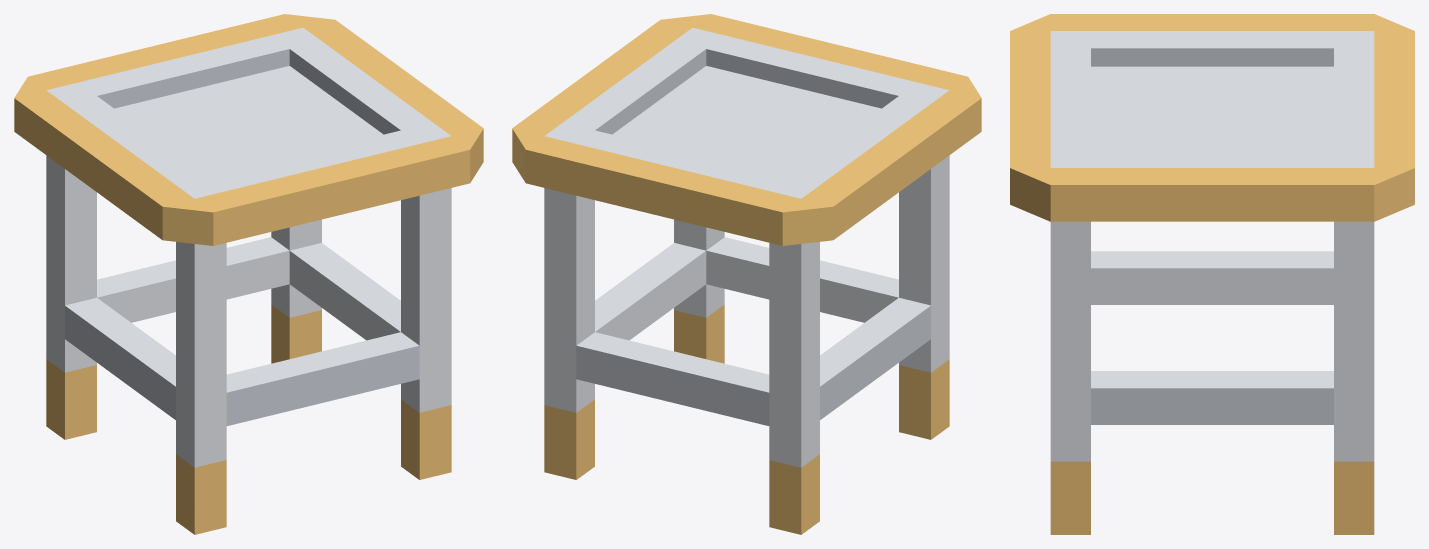
The model's file is space_platform_high.glb.
3 renders of one model, left to right at view 1: azimuth 30°, elevation 25°; view 2: azimuth 150°, elevation 25°; view 3: azimuth 270°, elevation 25°, orthographic. The views are drawn at different scales.
Visible parts, largest first — view 1: platform_high; view 2: platform_high; view 3: platform_high.
Boxes of the visible parts, left/top/right/bottom form: platform_high: left=14, top=14, right=483, bottom=534; platform_high: left=512, top=14, right=981, bottom=534; platform_high: left=1010, top=14, right=1414, bottom=534.
Size of the model in its own units: 1 by 1 by 1.
